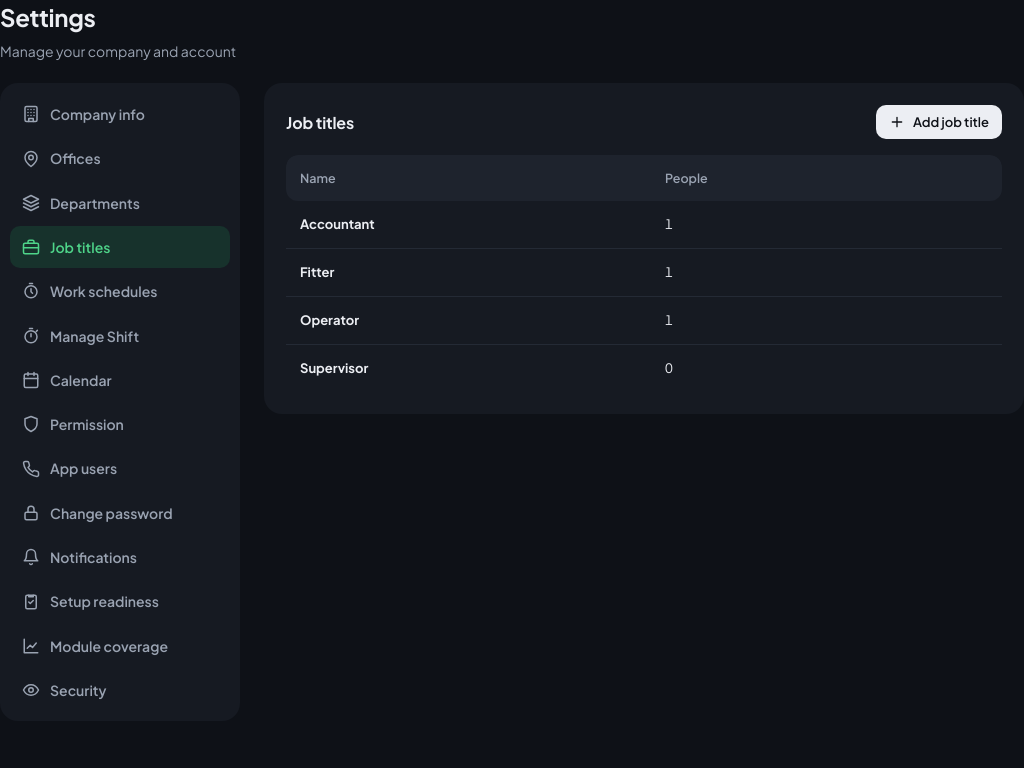
Test case: Settings › adds a job title here as a Designation, and reads the list again
This screenshot has width=1024, height=768.
Click the button "Add job title" at (939, 122), box [876,105,1002,139]
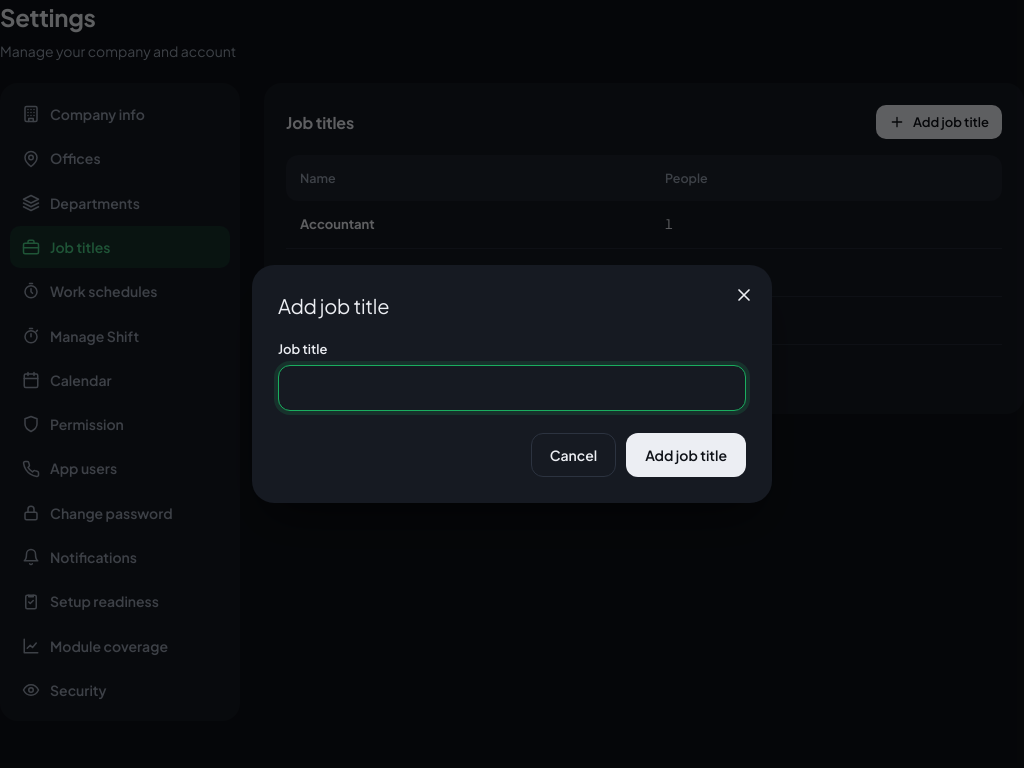
Type "Quality Inspector" into the field with id "jt-name" at (512, 388), box [278,365,746,411]
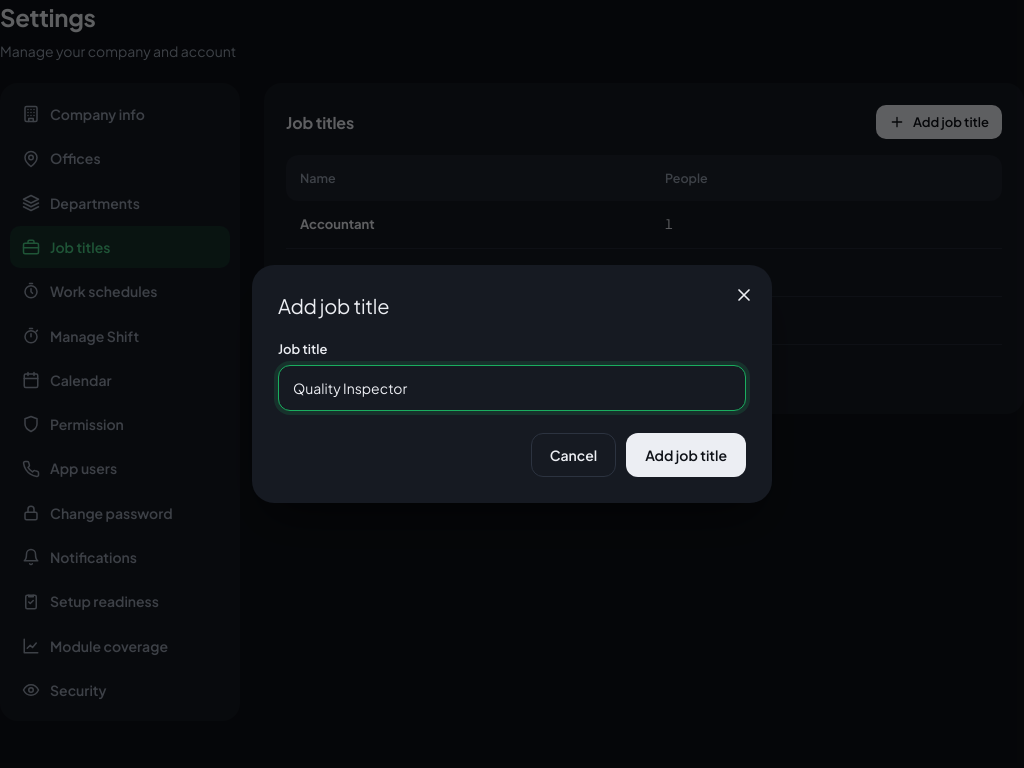
Submit the form with id "jt-name", box [278,340,746,477]
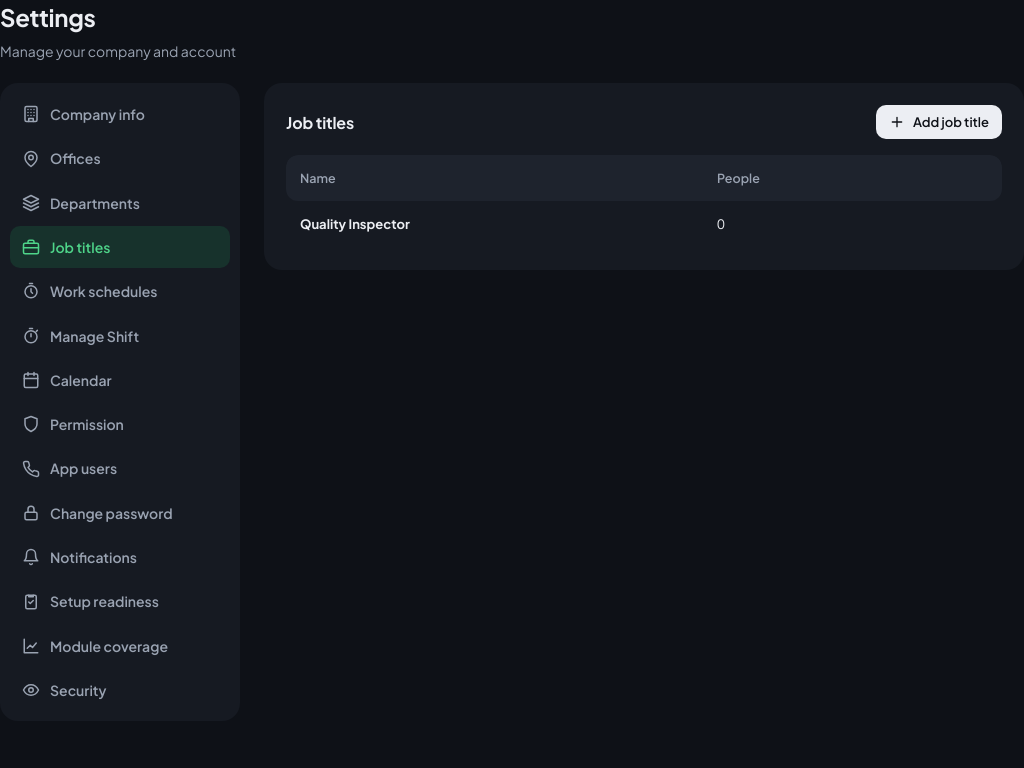
expect the label with id "jt-name" is gone: met
